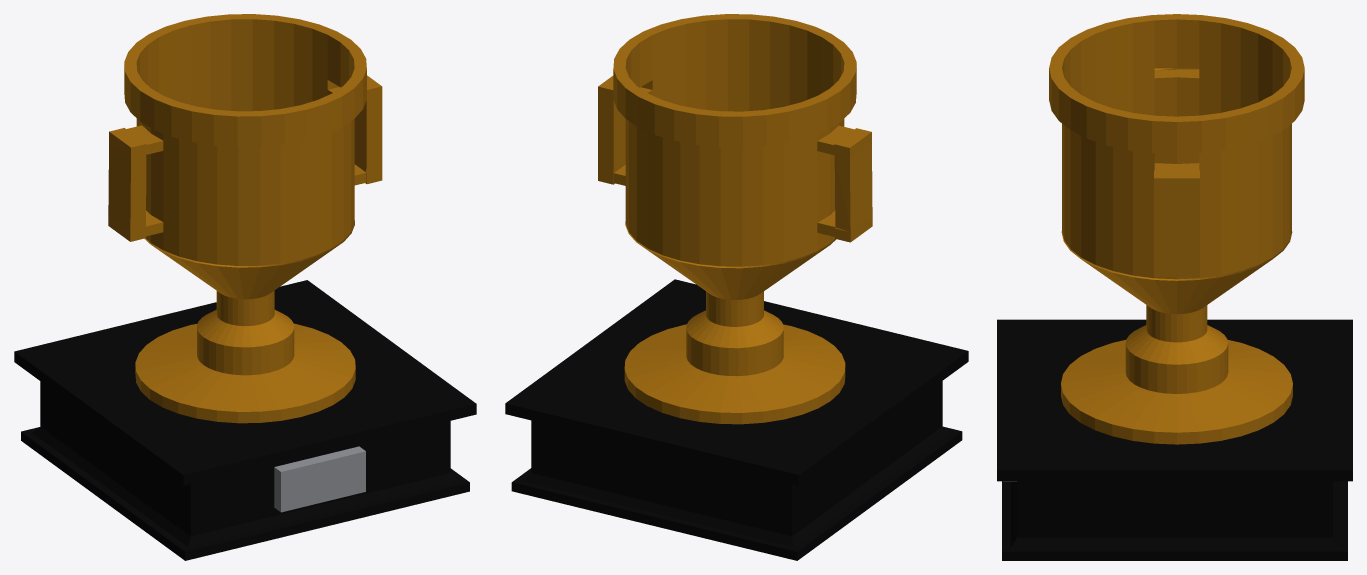
File: trofeo.obj
The picture shows the model from 3 angles, left to right: view 1: azimuth 30°, elevation 25°; view 2: azimuth 150°, elevation 25°; view 3: azimuth 270°, elevation 25°; orthographic projection. The views are drawn at different scales.
Parts seen in each view (by area): view 1: Cilindro_Oro, Cubo_Marmol, Cubo.001_Placa; view 2: Cilindro_Oro, Cubo_Marmol; view 3: Cilindro_Oro, Cubo_Marmol.
Part boxes in pixels (box(x1,y1,x2,y2)): Cilindro_Oro: box(108, 14, 382, 423); Cubo_Marmol: box(14, 280, 476, 560); Cubo.001_Placa: box(274, 446, 365, 512); Cilindro_Oro: box(598, 14, 872, 424); Cubo_Marmol: box(505, 279, 968, 560); Cilindro_Oro: box(1049, 14, 1304, 444); Cubo_Marmol: box(997, 319, 1352, 560).
Size of the model in its own units: 2.78 by 3.63 by 2.78.
